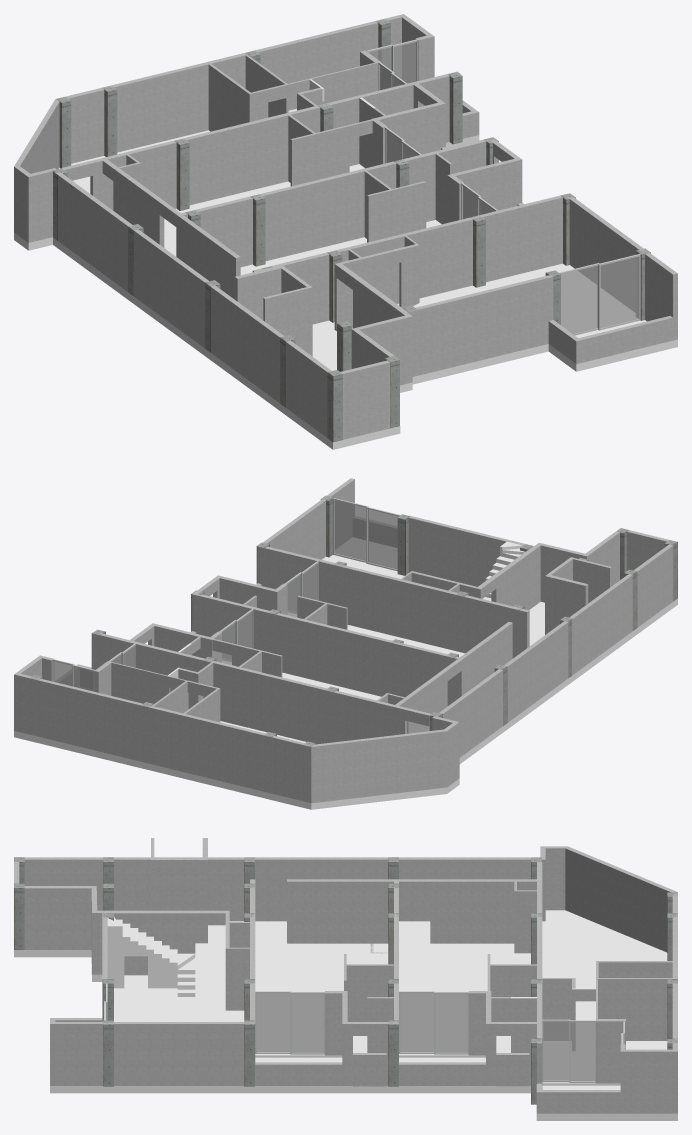
File: piso-2.glb
The picture shows the model from 3 angles, top to bottom: view 1: azimuth 30°, elevation 25°; view 2: azimuth 150°, elevation 25°; view 3: azimuth 270°, elevation 25°; orthographic projection. The views are drawn at different scales.
Visible parts, largest first — view 1: 2DO PISO; view 2: 2DO PISO; view 3: 2DO PISO.
Boxes of the visible parts, left/top/right/bottom form: 2DO PISO: left=14, top=14, right=677, bottom=449; 2DO PISO: left=14, top=478, right=677, bottom=809; 2DO PISO: left=14, top=838, right=677, bottom=1120.
Bounding box in the file's own units: 18.51 × 3.8 × 25.27.
Materials: 5 (2 with a texture image).
